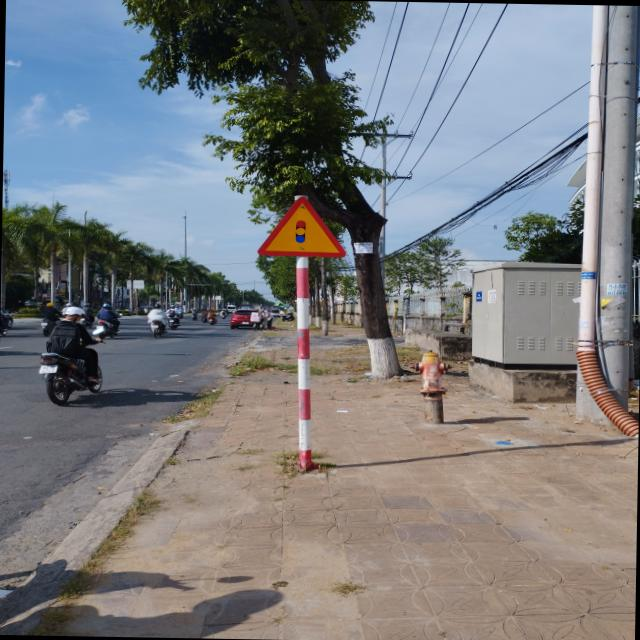Duong_Co_Go_Giam_Toc: (256, 195, 346, 257)
